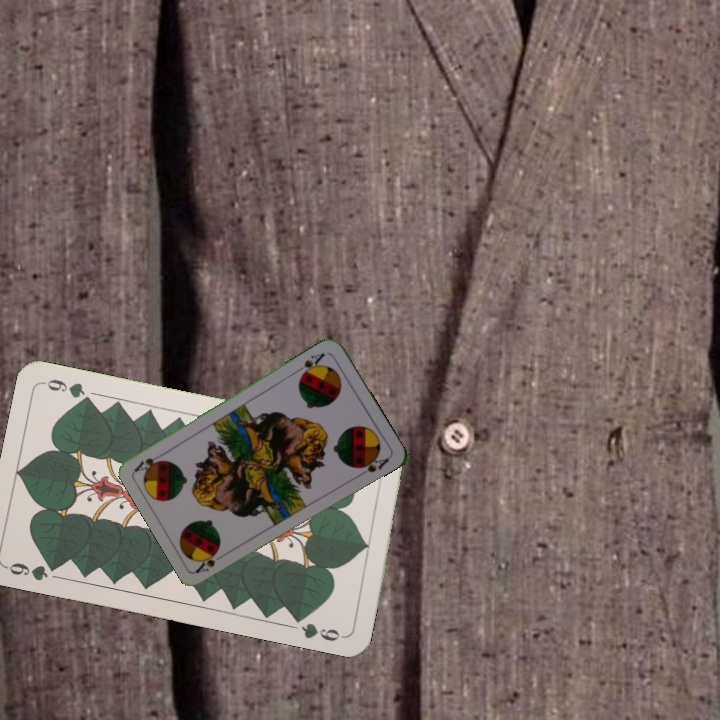G9: (2, 559, 63, 584)
SA: (292, 349, 328, 380), (192, 547, 221, 575)
